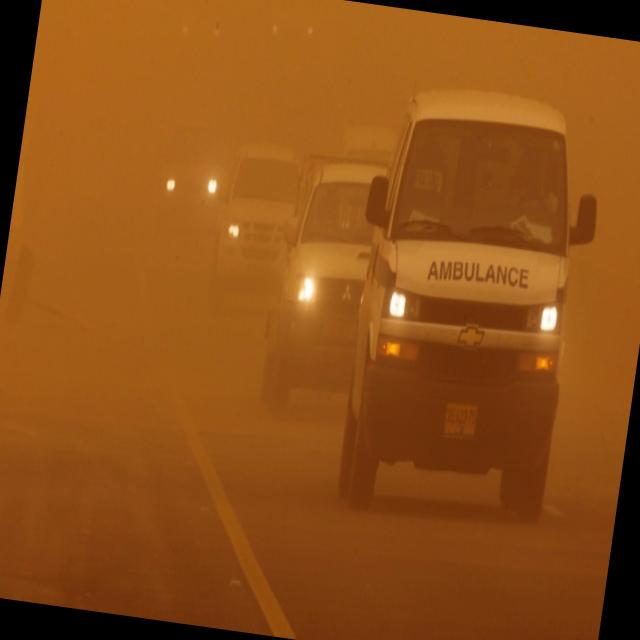car: (325, 80, 611, 530), (254, 148, 392, 428), (209, 142, 311, 308), (147, 112, 235, 256)
